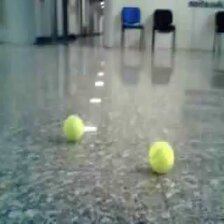tennis: (147, 141, 175, 173), (63, 114, 84, 141)
